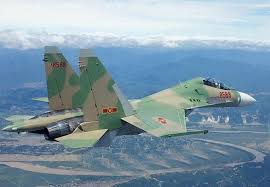maybay_muctieu: (25, 50, 264, 151)
